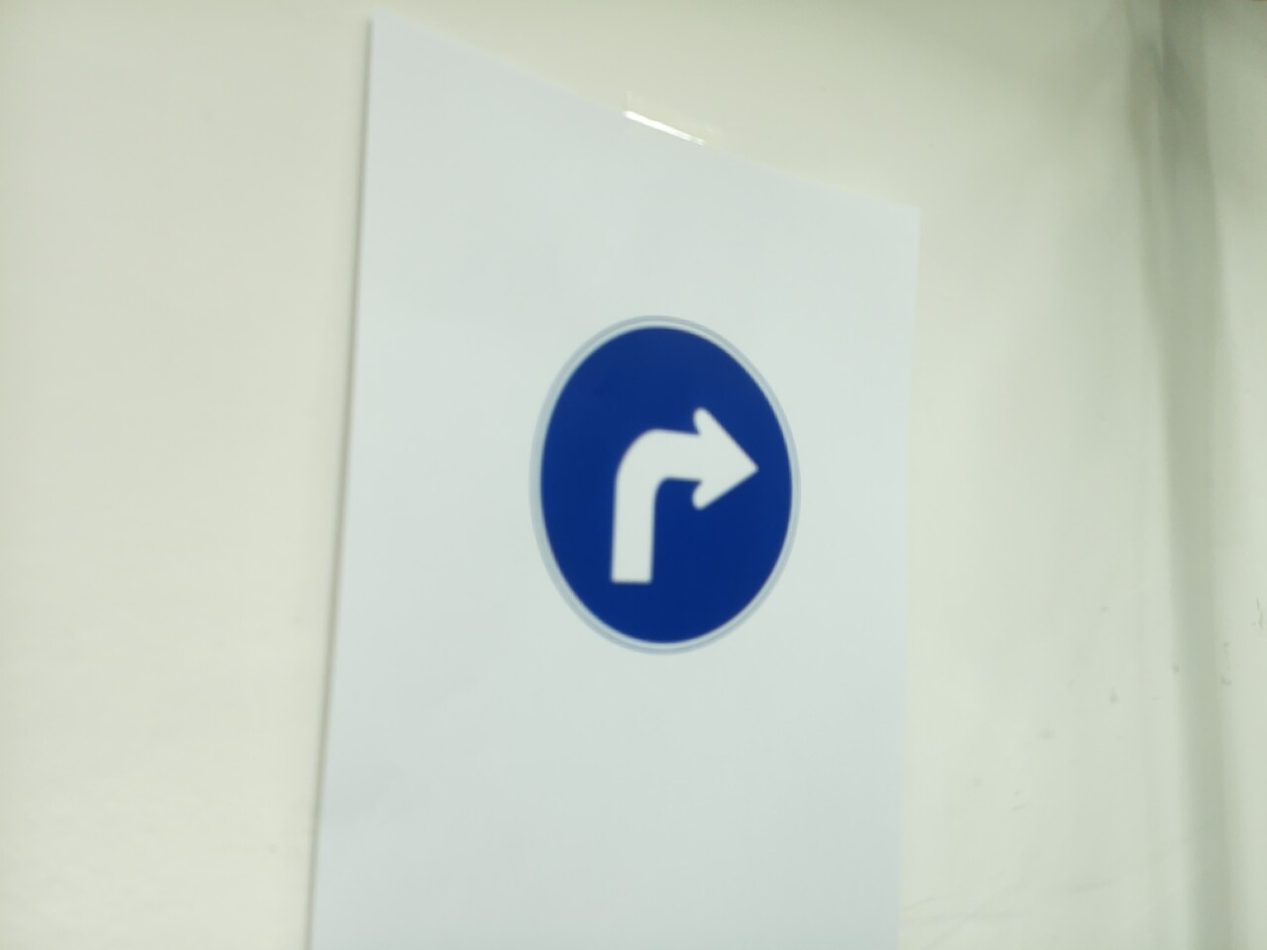right_turn: (532, 317, 801, 654)
